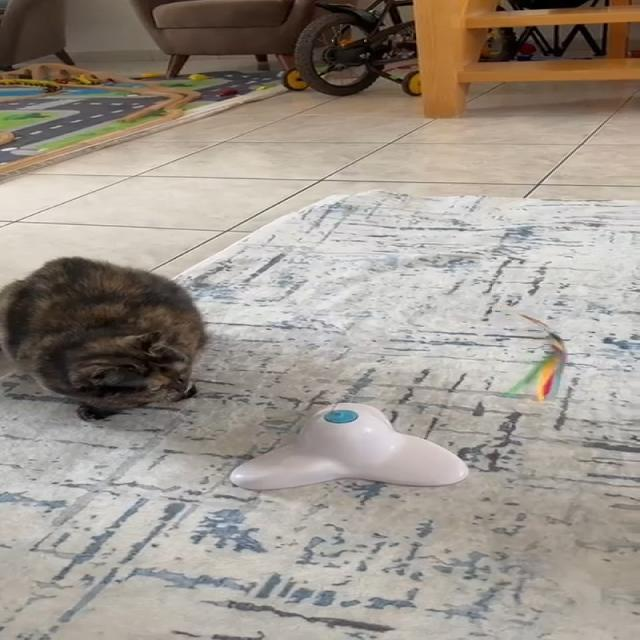authorized: (0, 255, 208, 422)
